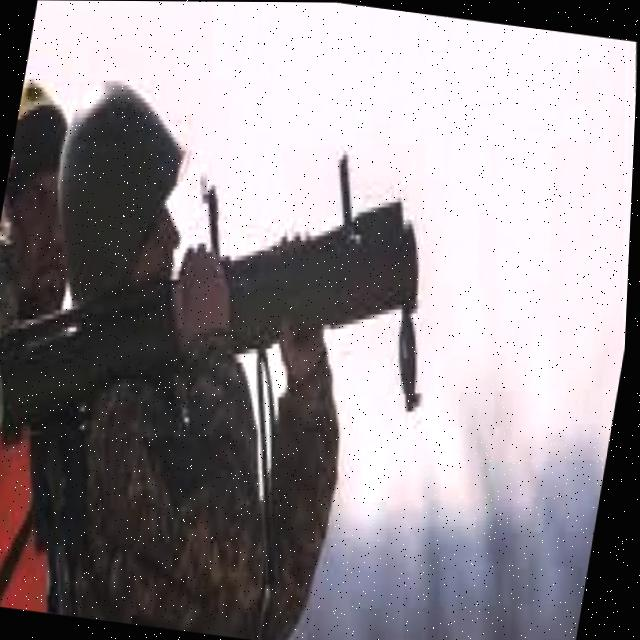rocket: (0, 141, 456, 496)
